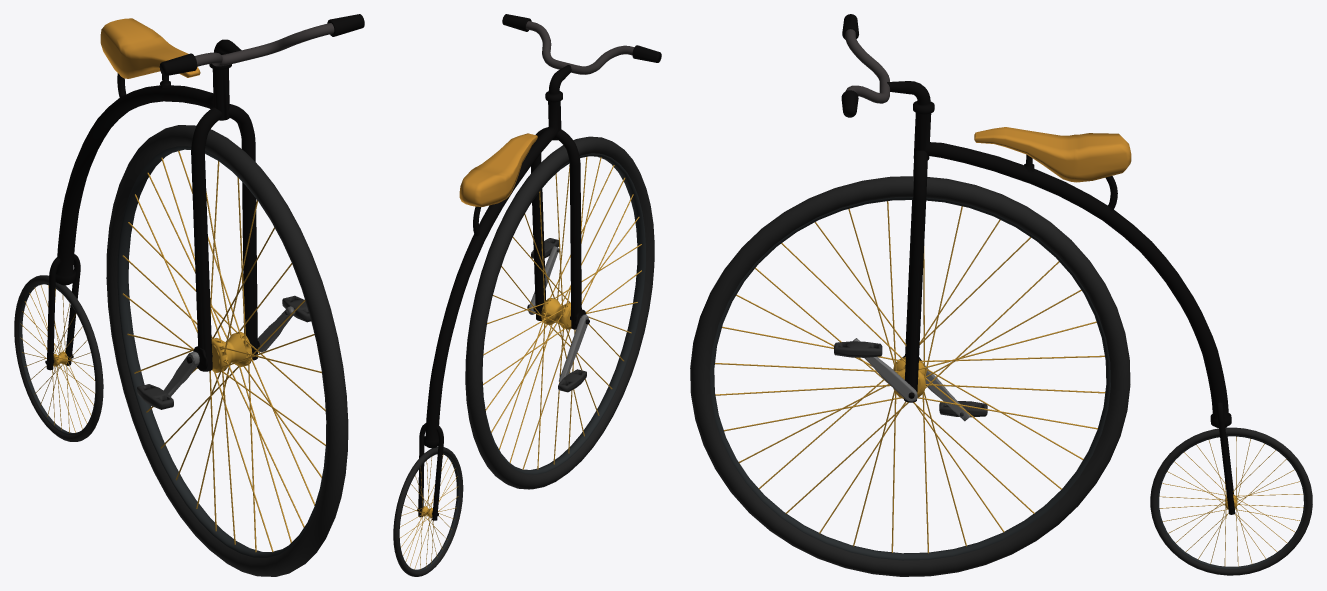
File: basikal_roda_gergasi.glb
The picture shows the model from 3 angles, left to right: view 1: azimuth 30°, elevation 25°; view 2: azimuth 150°, elevation 25°; view 3: azimuth 270°, elevation 25°; orthographic projection. The views are drawn at different scales.
Parts seen in each view (by area): view 1: basikal_roda_gergasi, basikal_roda_gergasi_crank; view 2: basikal_roda_gergasi, basikal_roda_gergasi_crank; view 3: basikal_roda_gergasi, basikal_roda_gergasi_crank.
Boxes of the visible parts, <box> form: basikal_roda_gergasi: <box>14,14,364,576</box>; basikal_roda_gergasi_crank: <box>137,295,310,409</box>; basikal_roda_gergasi: <box>393,14,661,576</box>; basikal_roda_gergasi_crank: <box>528,238,588,392</box>; basikal_roda_gergasi: <box>690,14,1312,576</box>; basikal_roda_gergasi_crank: <box>834,338,987,421</box>.
Size of the model in its own units: 0.5519 by 1.46 by 1.58.
